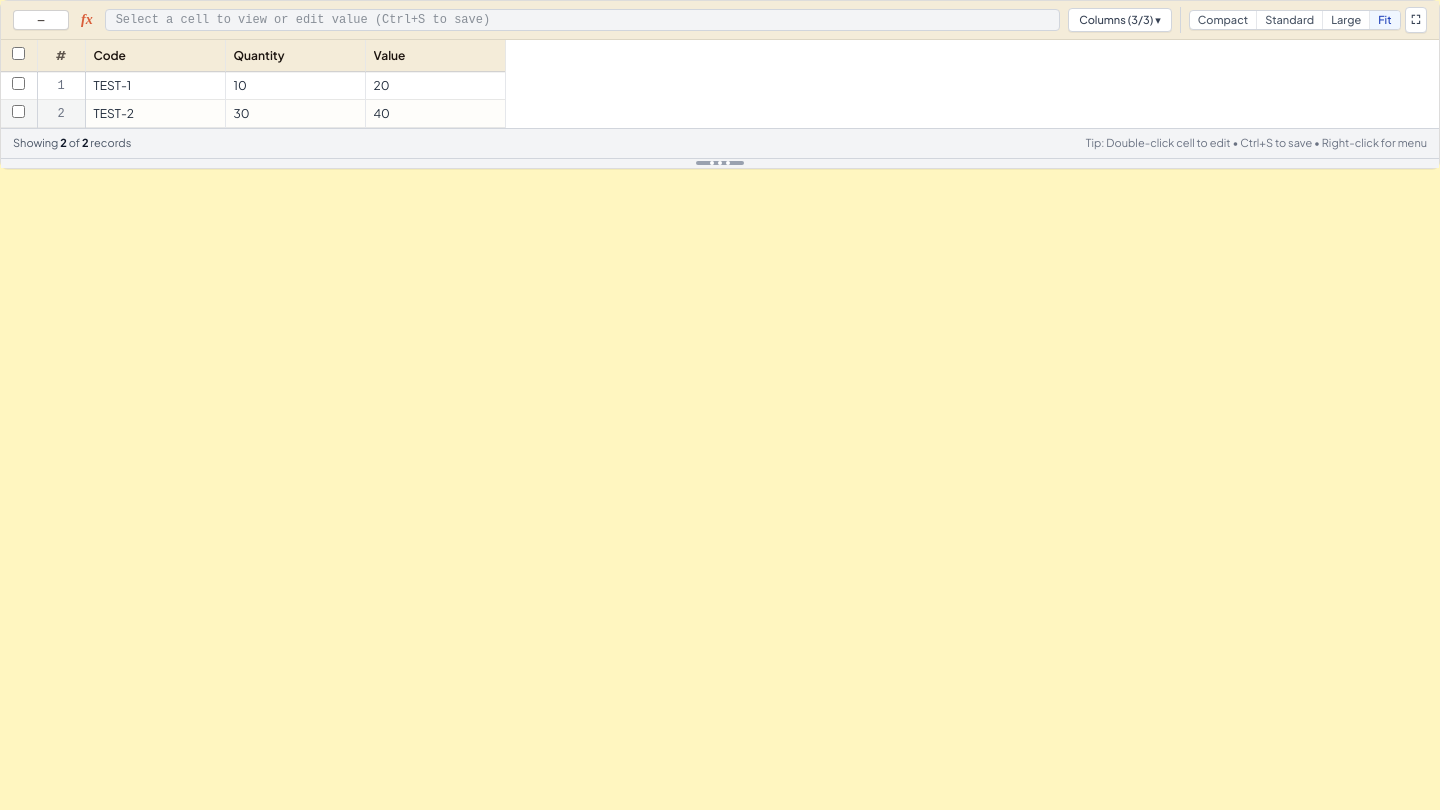
Scenario: row editor changes participate in history and protected identifiers stay read-only
Click the cell "10". click: (295, 86)
box: x1=225 y1=72 x2=365 y2=100
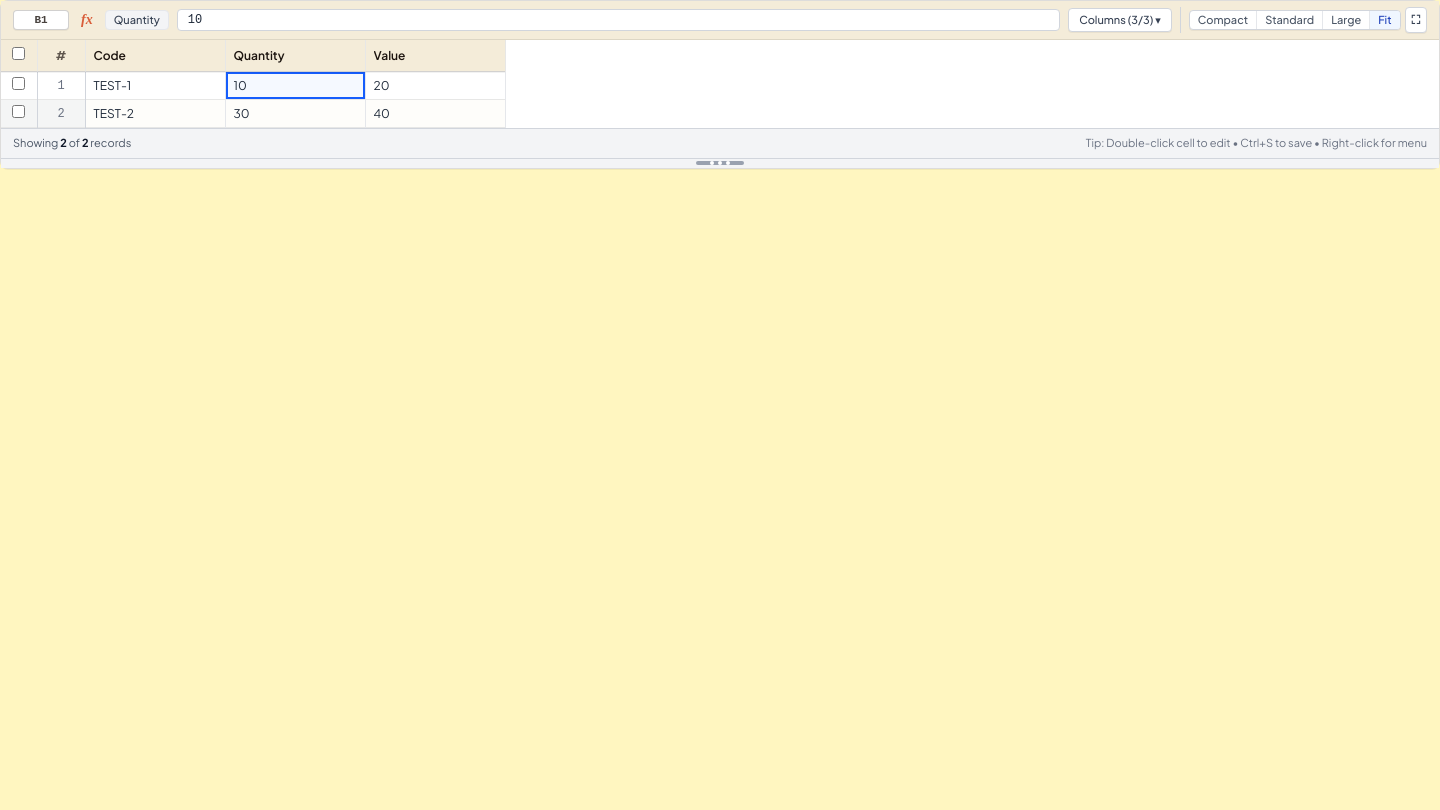
Right-click the cell "10" at (295, 86), box x1=225 y1=72 x2=365 y2=100
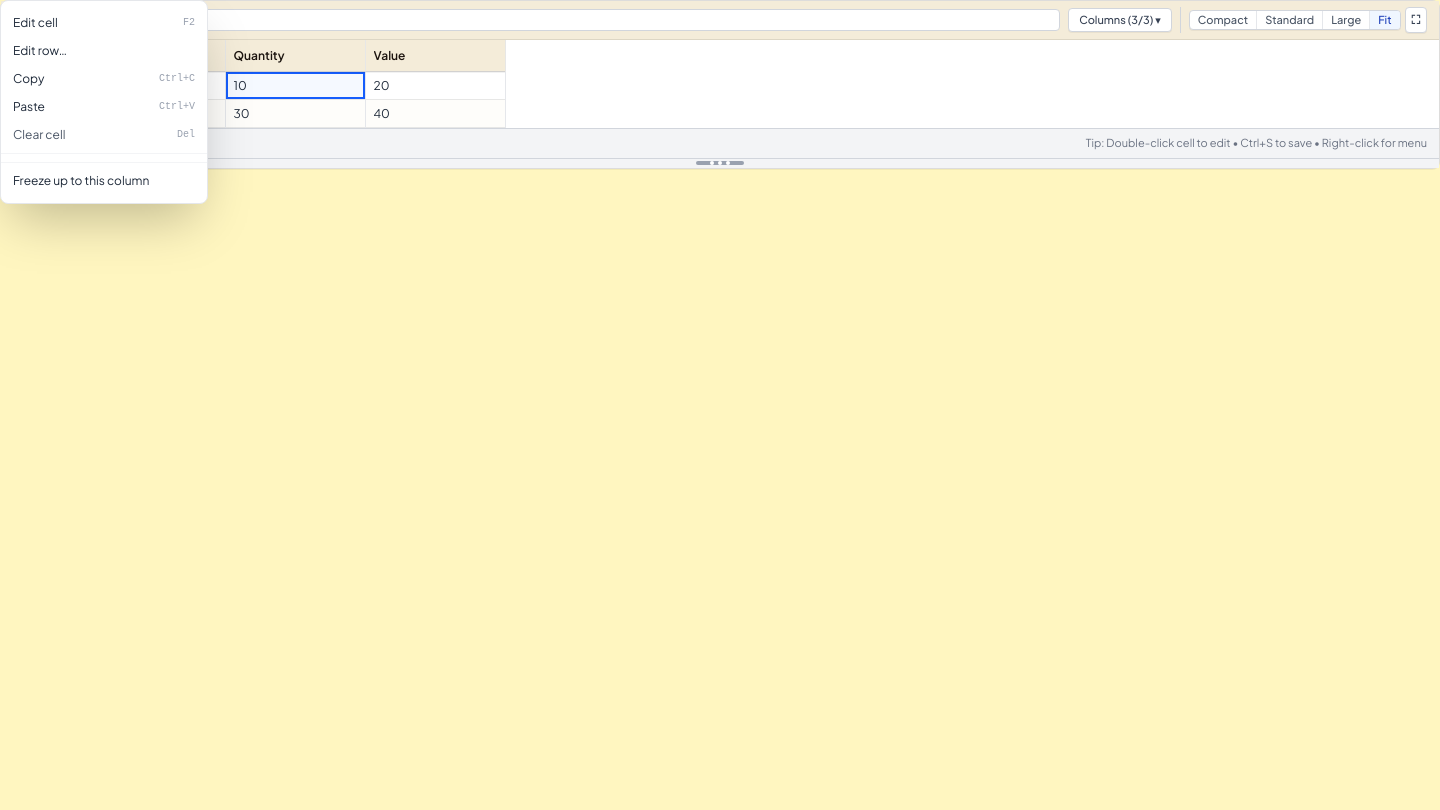
Click the button "Edit row…". click: (104, 51)
box: x1=1 y1=37 x2=207 y2=65
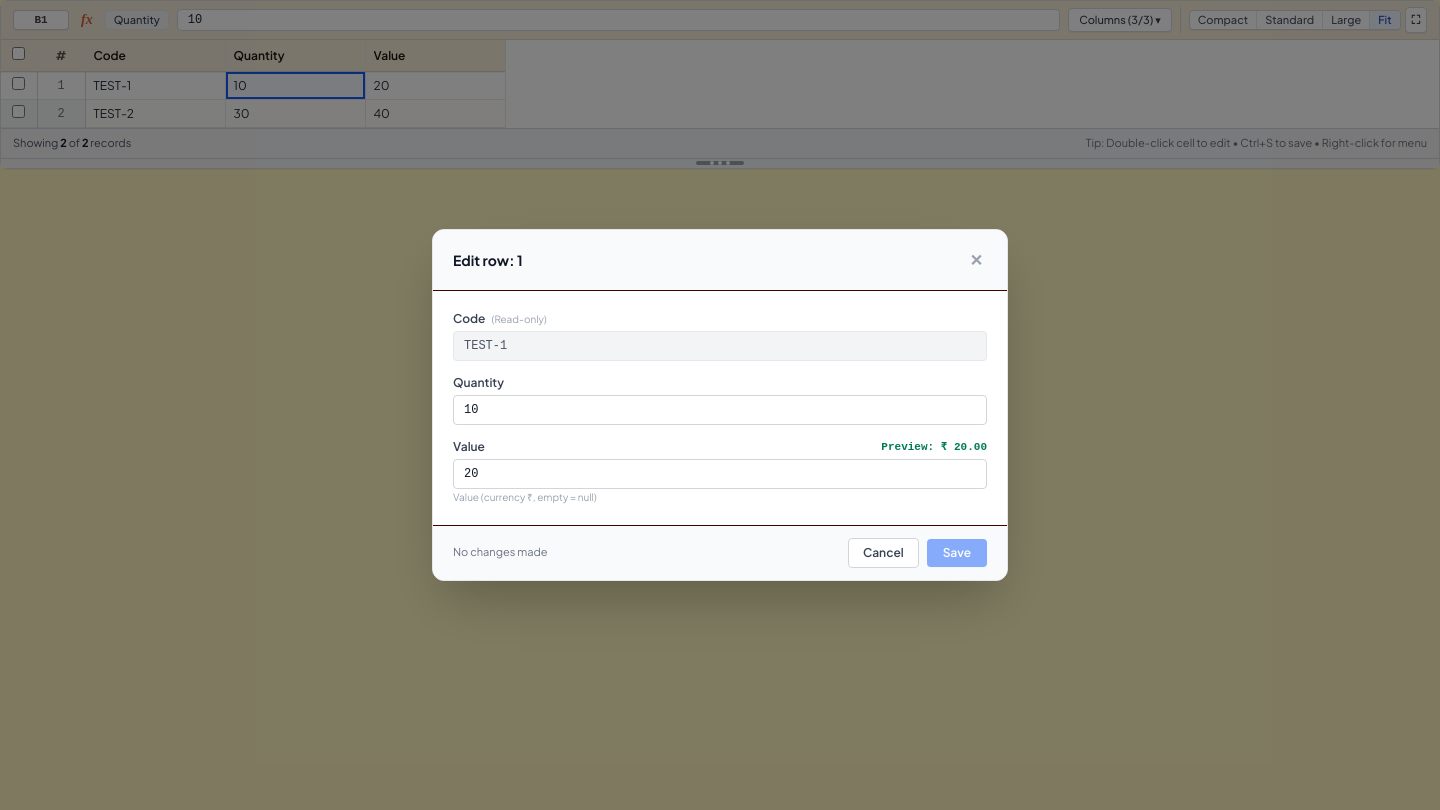
Replace the text in the field labelled "Quantity" with "15". click: (720, 410)
box: x1=453 y1=395 x2=987 y2=425
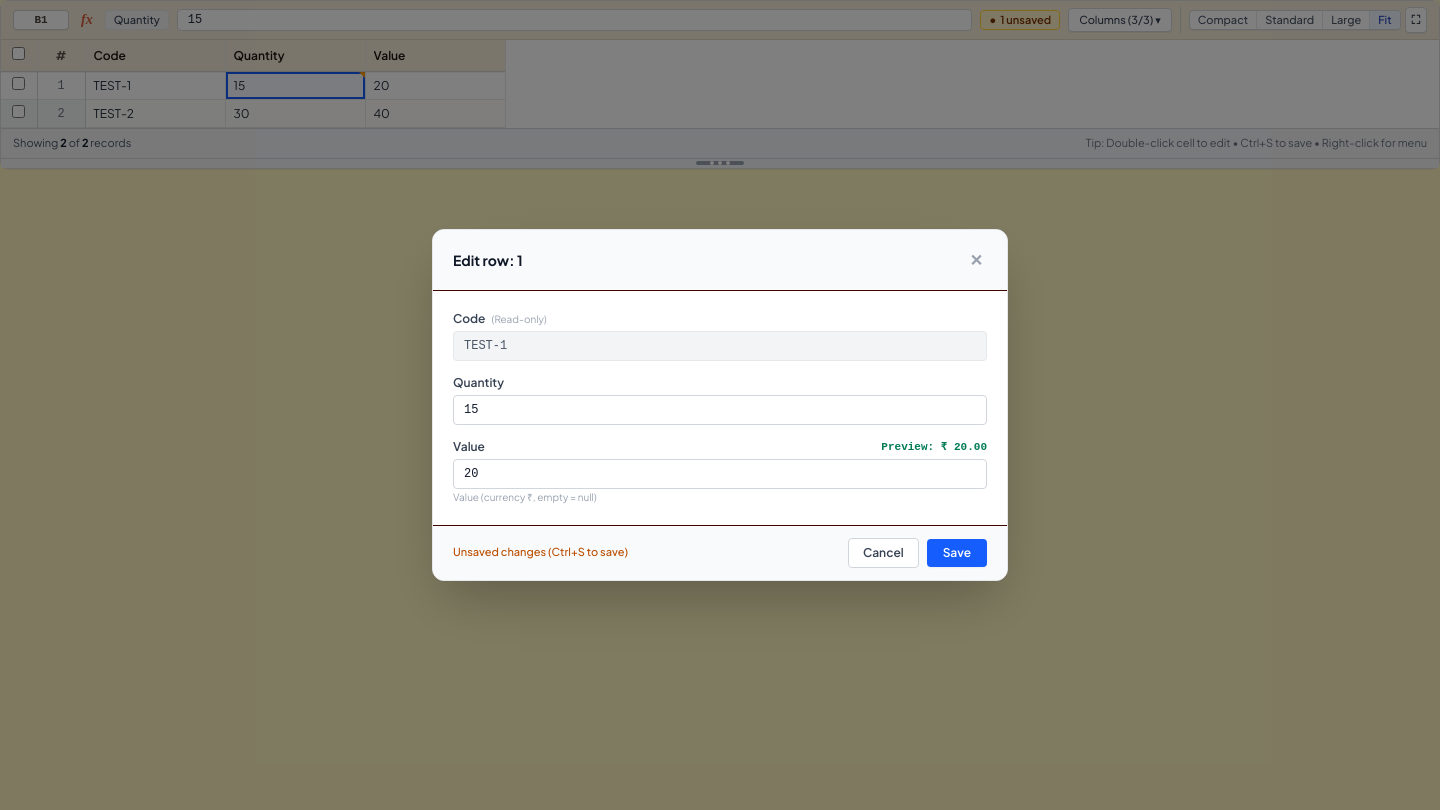
Press z in the field labelled "Quantity", box x1=453 y1=395 x2=987 y2=425
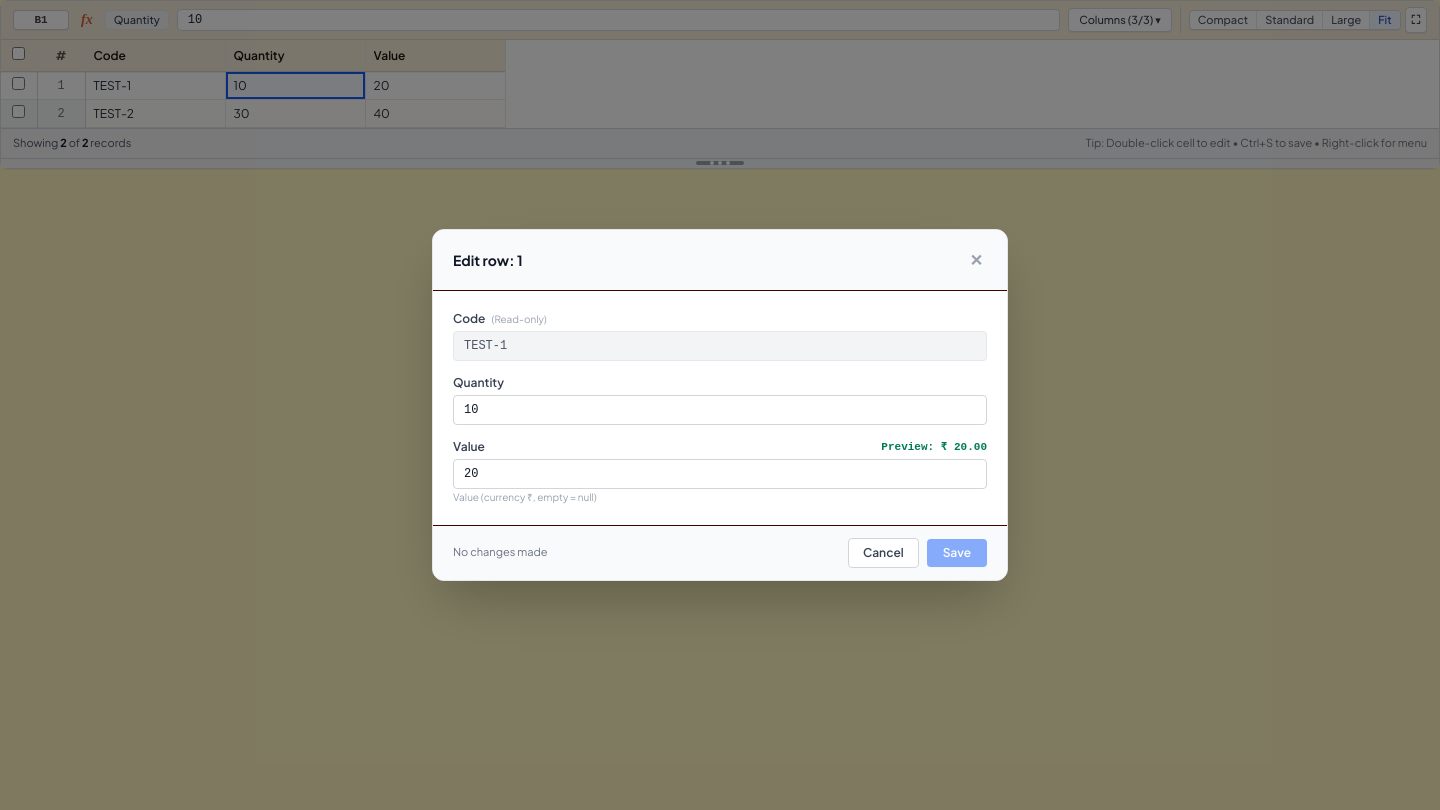
expect the field labelled "Quantity" holds "10": met, box x1=453 y1=395 x2=987 y2=425
